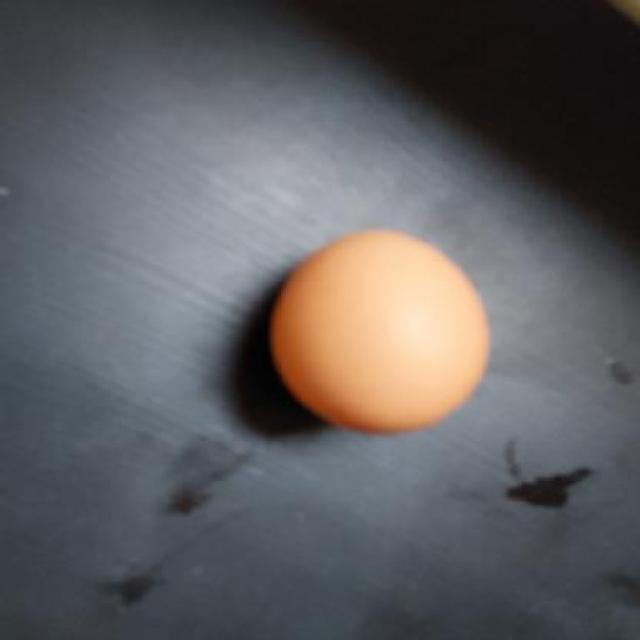biodegradable: (266, 226, 497, 439)
